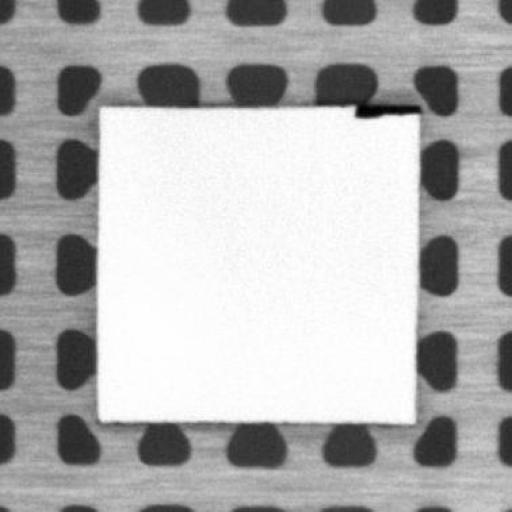DIE_BROKEN: (350, 100, 422, 117)
